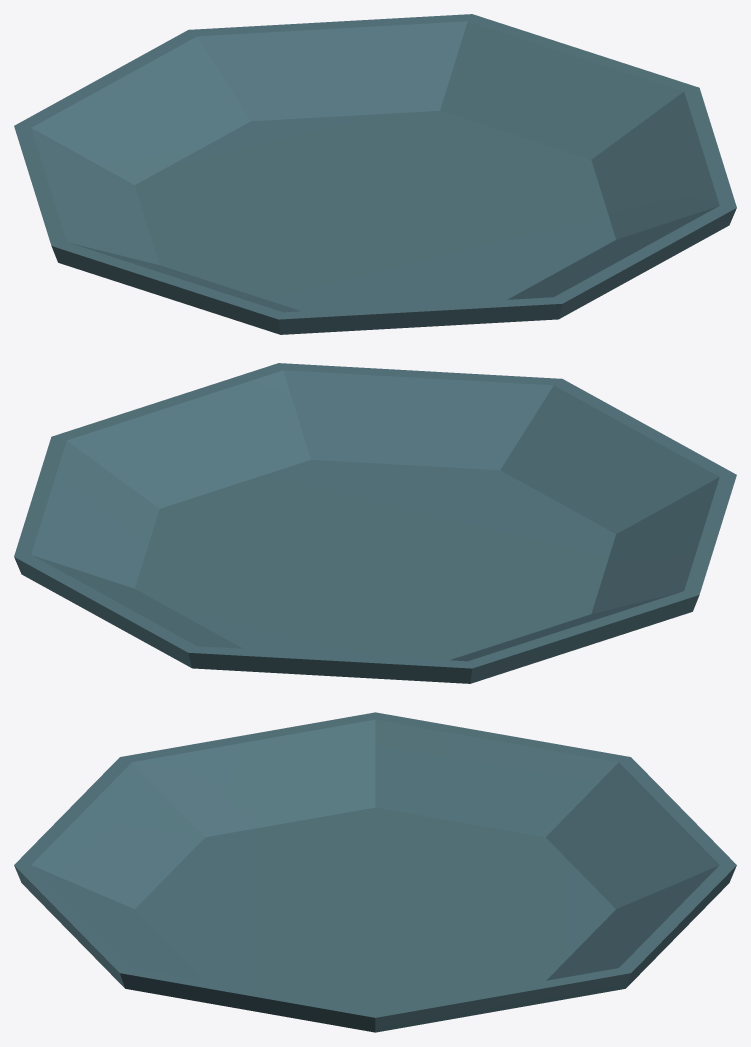
Rendered from plate.glb.
The picture shows the model from 3 angles, top to bottom: view 1: azimuth 30°, elevation 25°; view 2: azimuth 150°, elevation 25°; view 3: azimuth 270°, elevation 25°; orthographic projection. The views are drawn at different scales.
Parts seen in each view (by area): view 1: Plate.001; view 2: Plate.001; view 3: Plate.001.
Part boxes in pixels (<box>): Plate.001: <box>14,14,736,334</box>; Plate.001: <box>14,363,736,683</box>; Plate.001: <box>14,712,736,1032</box>.
Bounding box in the file's own units: 0.3027 × 0.0269 × 0.3027.
1 material, 1 textured.
